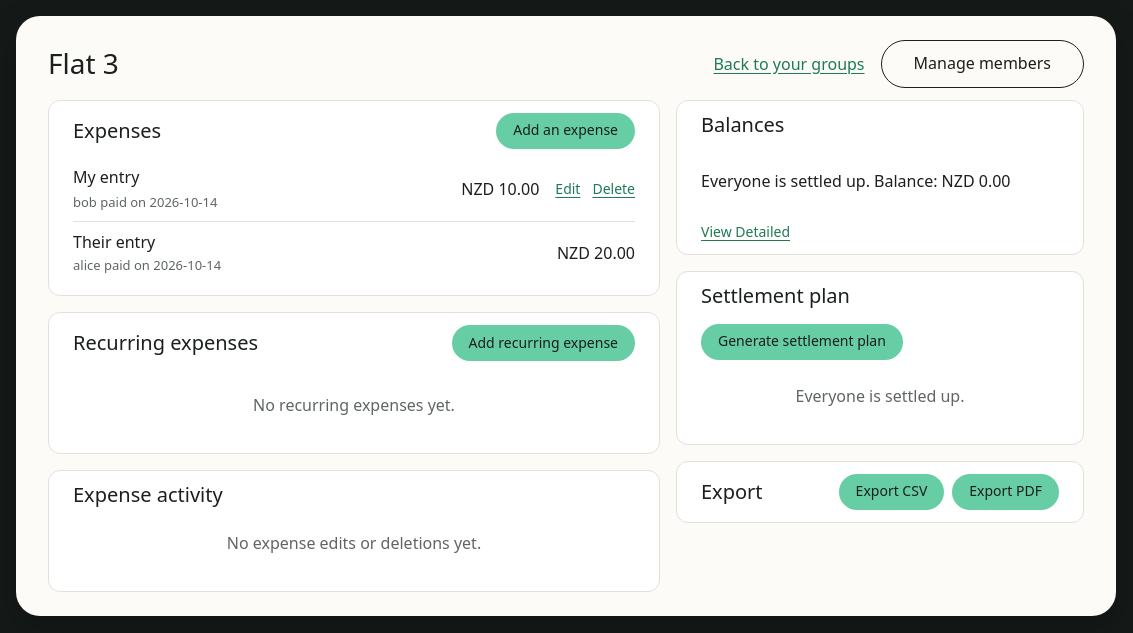
Scenario: shows Delete only to the creator and removes a successfully deleted expense
Click the button with aria-label "Delete My entry" at [614, 189], box [592,165,635,213]
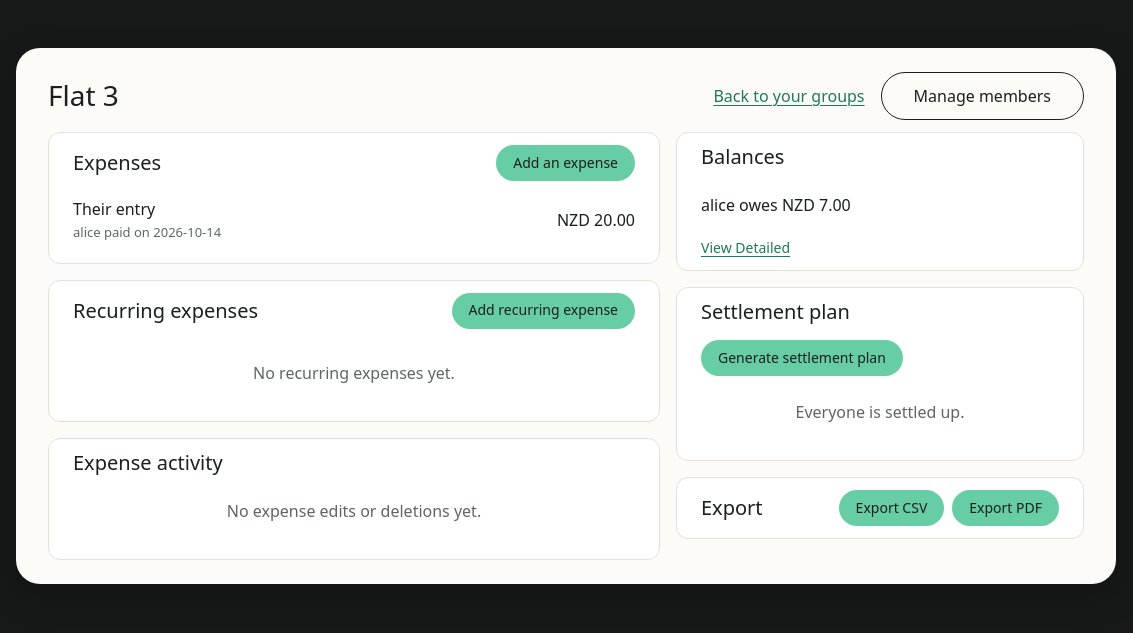
Check: the text "Their entry" is shown, box [73,198,155,220]
Check: the list item "alice owes NZD 7.00" is shown, box [701,194,851,216]
Check: the text "My entry" is gone
